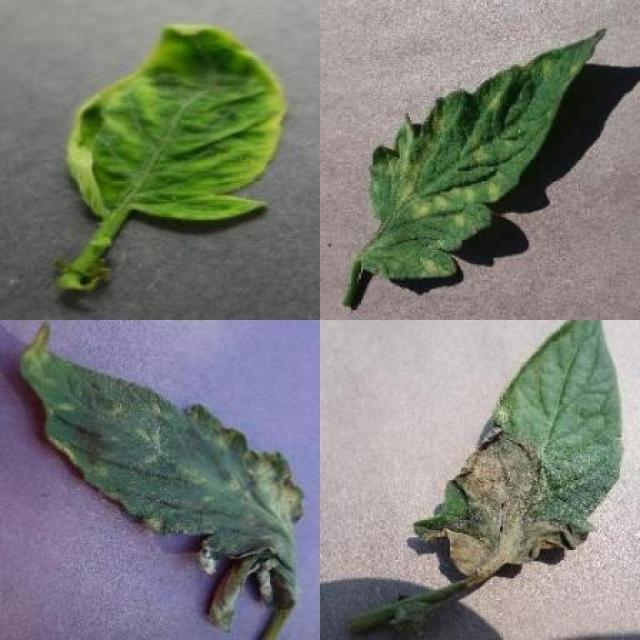Late Blight: (408, 320, 622, 586)
Leaf Mold: (17, 321, 306, 633), (366, 28, 604, 281)
Yellow Leaf Curl Virus: (65, 20, 288, 226)
